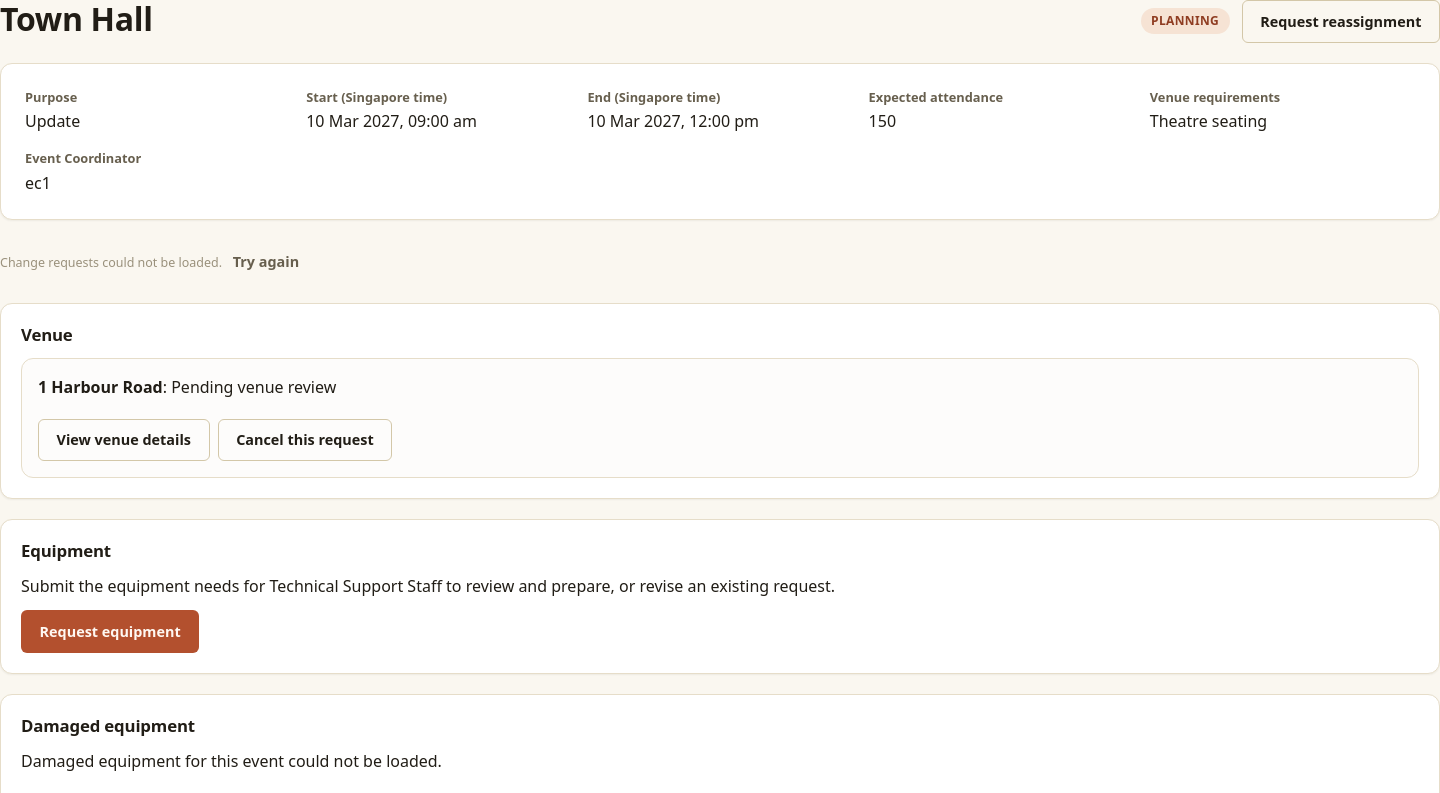
Test: Cancelling a pending venue booking request (EC03) › cancels a pending booking with an optional reason and then offers a new request
Click the button "Cancel this request" at (305, 440), box [218,419,392,461]
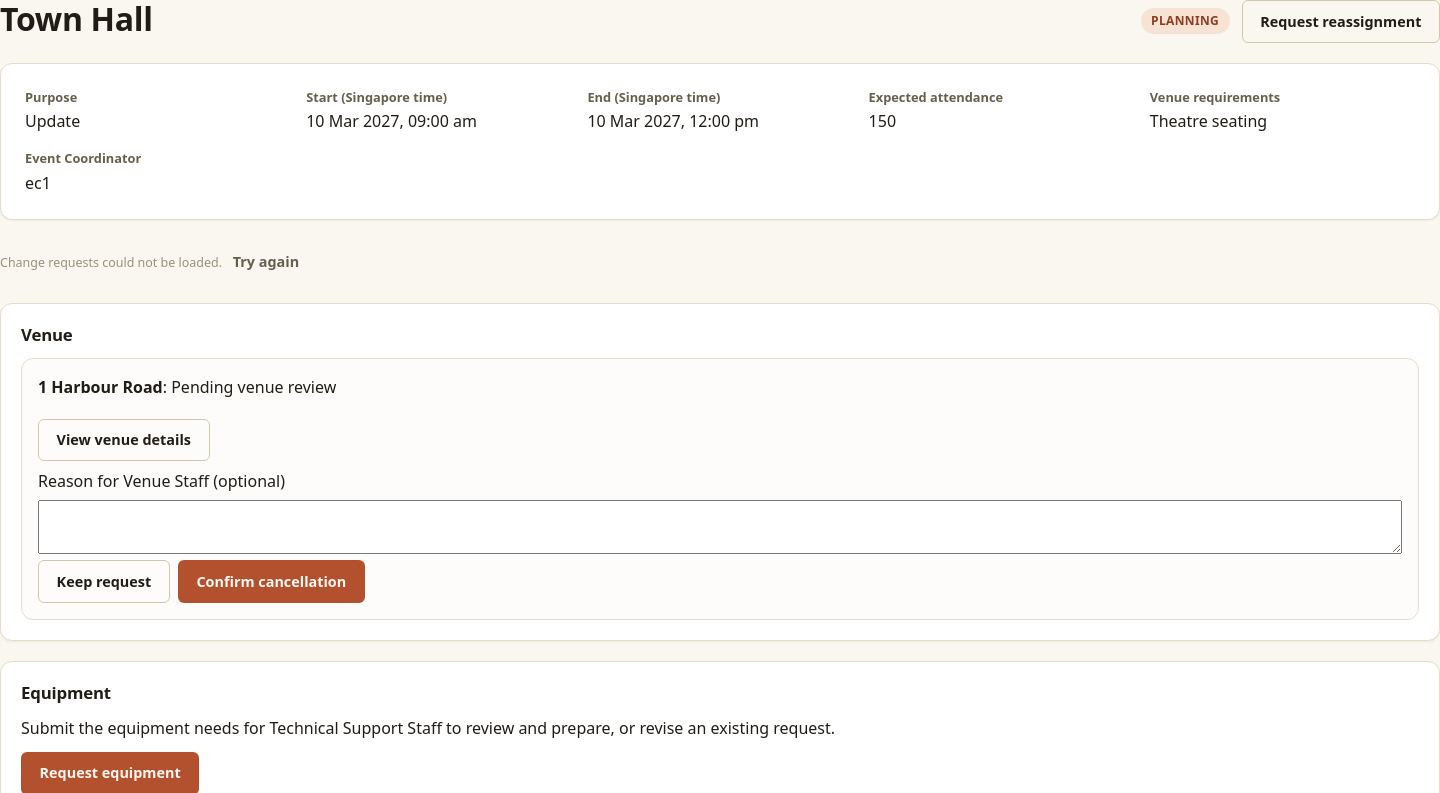
Type "Wrong venue" into the text box labelled "Reason for Venue Staff (optional)" at (720, 527), box [38,500,1402,554]
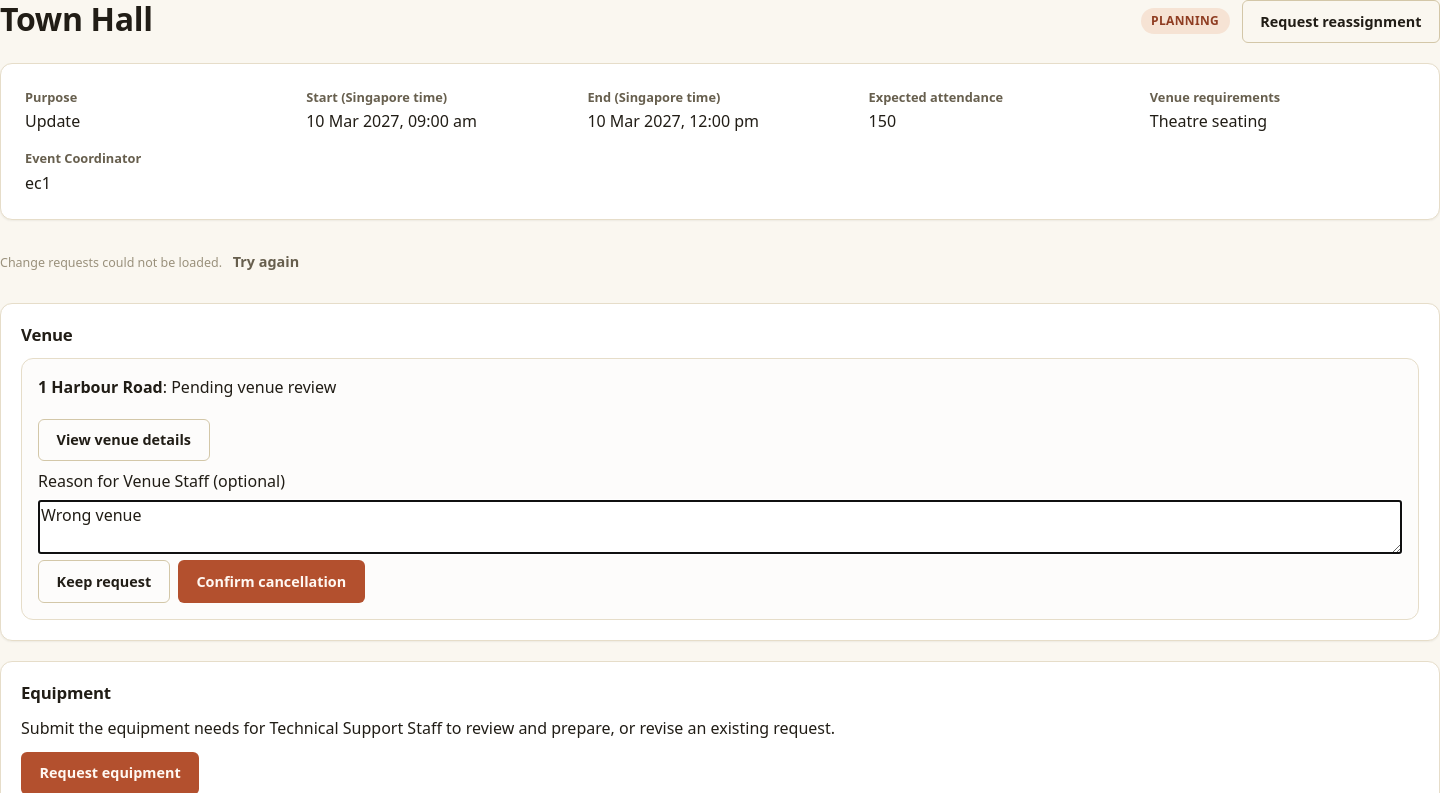
Click the button "Confirm cancellation" at (271, 582), box [178,560,365,603]
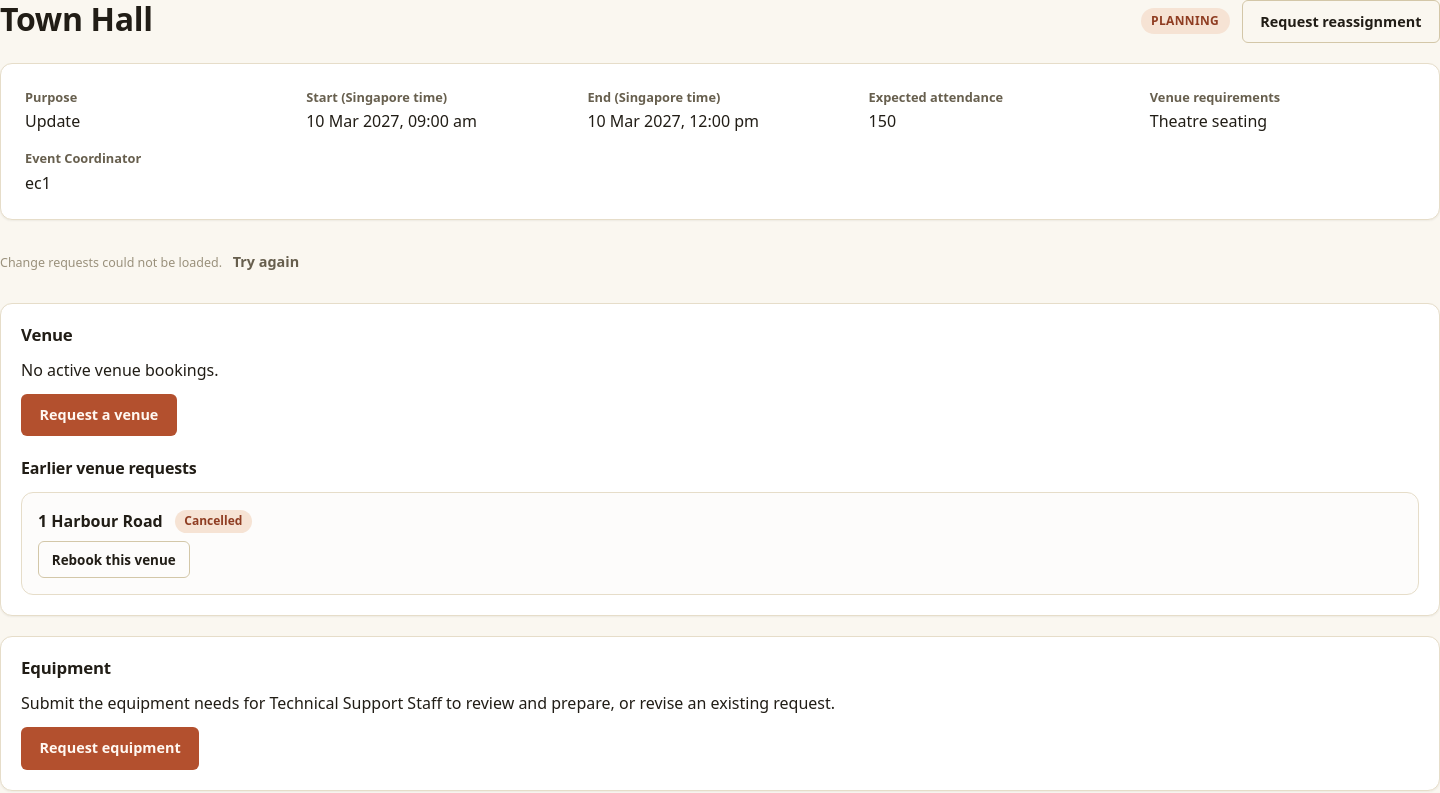
Result: the link "Request a venue" is shown at [21,394,177,436]
Result: the heading "Earlier venue requests" is shown at [21,457,197,479]
Result: the text "Cancelled" is shown at [175,510,252,533]
